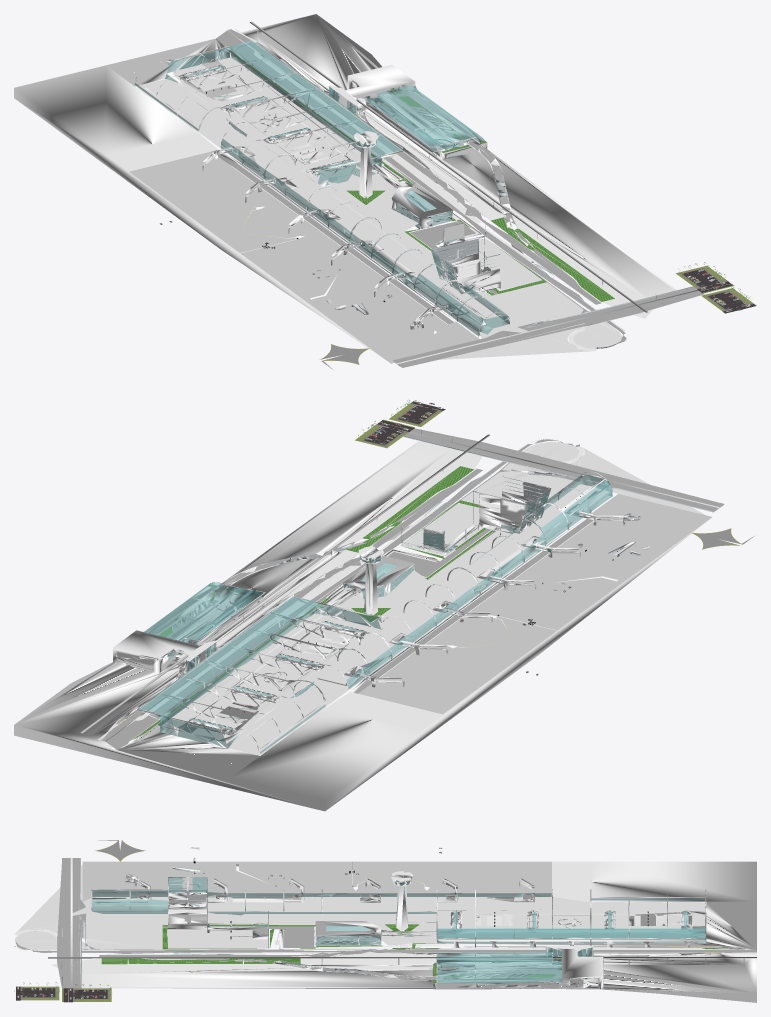
File: airport.glb
The picture shows the model from 3 angles, top to bottom: view 1: azimuth 30°, elevation 25°; view 2: azimuth 150°, elevation 25°; view 3: azimuth 270°, elevation 25°; orthographic projection. The views are drawn at different scales.
Visible parts, largest first — view 1: Material3 (×7), Material2 (×2); view 2: Material3 (×7), Material2 (×2); view 3: Material3 (×9), Material2 (×2).
Boxes of the visible parts, left/top/right/bottom form: Material3 (×7): left=14, top=14, right=756, bottom=367; Material2 (×2): left=135, top=40, right=738, bottom=367; Material3 (×7): left=14, top=401, right=723, bottom=811; Material2 (×2): left=115, top=407, right=723, bottom=753; Material3 (×9): left=14, top=840, right=756, bottom=1002; Material2 (×2): left=15, top=847, right=706, bottom=995.
Size of the model in its own units: 15210 by 2658 by 28587.
Materials: 58 (12 with a texture image).
